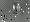person: (15, 3, 21, 15)
